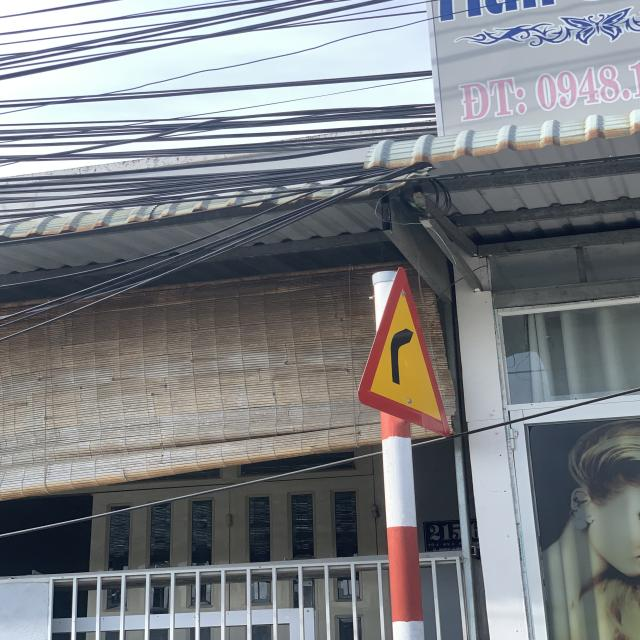Duong_Nguoi_Di_Bo_Cat_Ngang: (358, 265, 452, 436)
